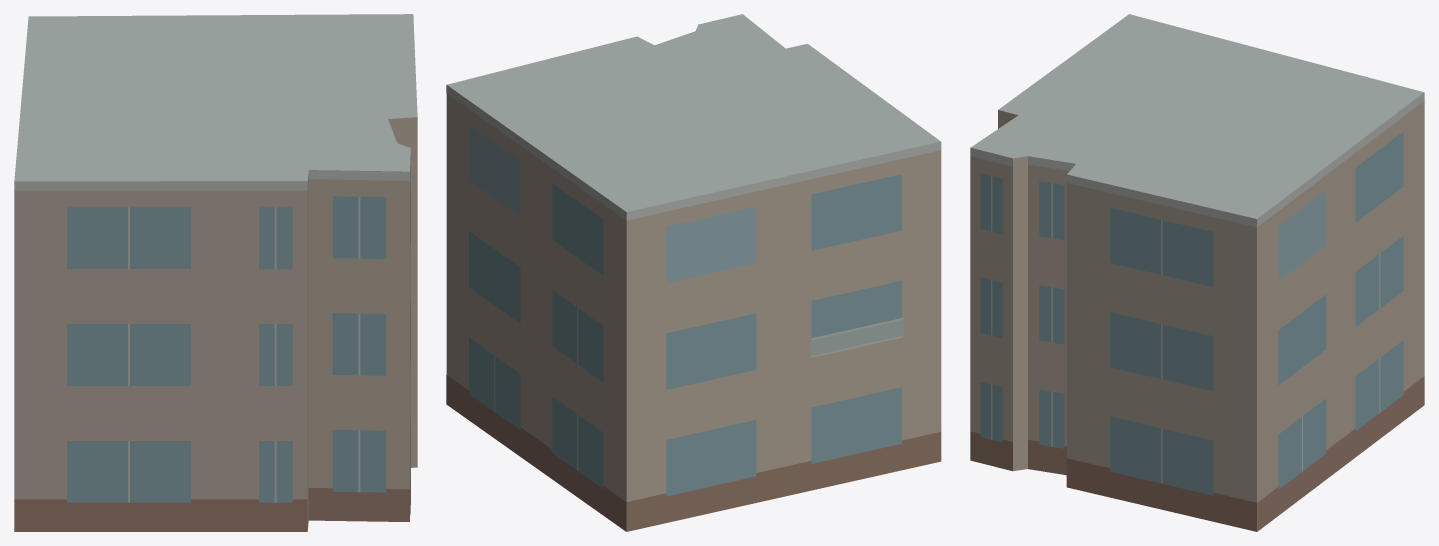
The model's file is survey-upis-32731413.glb.
3 views of the same model, side by side, from view 1: azimuth 30°, elevation 25°; view 2: azimuth 150°, elevation 25°; view 3: azimuth 270°, elevation 25° (orthographic). The views are drawn at different scales.
Parts seen in each view (by area): view 1: survey-upis-32731413.tmp; view 2: survey-upis-32731413.tmp; view 3: survey-upis-32731413.tmp.
Part boxes in pixels (left/top/right/bottom): survey-upis-32731413.tmp: left=14, top=14, right=417, bottom=531; survey-upis-32731413.tmp: left=446, top=14, right=941, bottom=531; survey-upis-32731413.tmp: left=970, top=14, right=1424, bottom=531.
Bounding box in the file's own units: 12.94 × 9.2 × 12.11.
